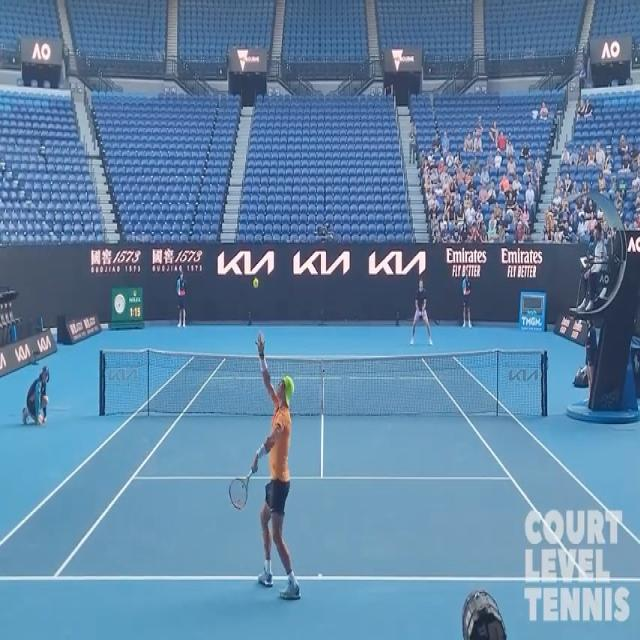serve_toss: (227, 334, 306, 608)
